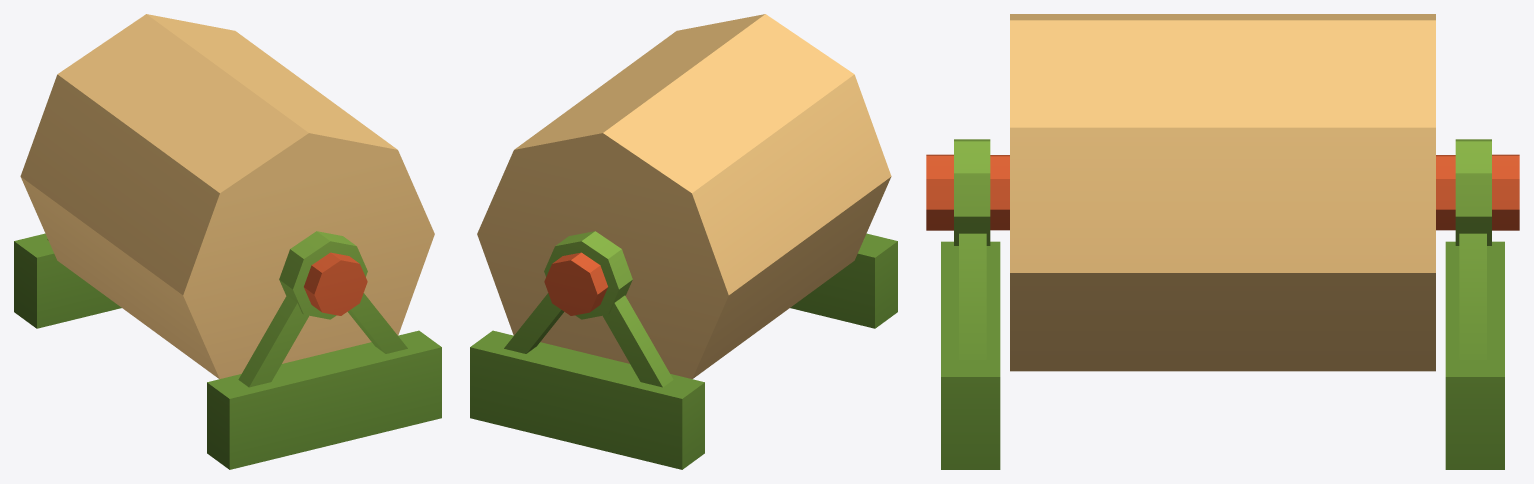
Rendered from paper roll.fbx.
3 views of the same model, side by side, from view 1: azimuth 30°, elevation 25°; view 2: azimuth 150°, elevation 25°; view 3: azimuth 270°, elevation 25° (orthographic). The views are drawn at different scales.
Parts seen in each view (by area): view 1: paper_roll; view 2: paper_roll; view 3: paper_roll.
Part boxes in pixels (x1,y1,x2,y2): paper_roll: (14, 14, 441, 469); paper_roll: (470, 14, 897, 469); paper_roll: (926, 14, 1519, 469).
Bounding box in the file's own units: 214 × 236 × 333.
Materials: 1 (1 with a texture image).
